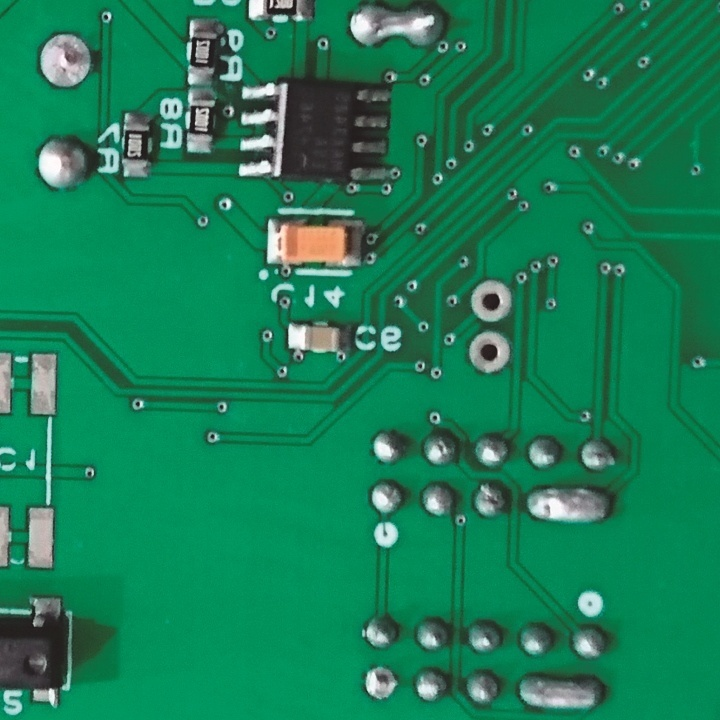F: (37, 32, 94, 91), (467, 327, 514, 378), (469, 278, 514, 326), (363, 663, 396, 706)
P: (343, 1, 451, 52), (524, 483, 615, 531), (515, 669, 606, 715)
